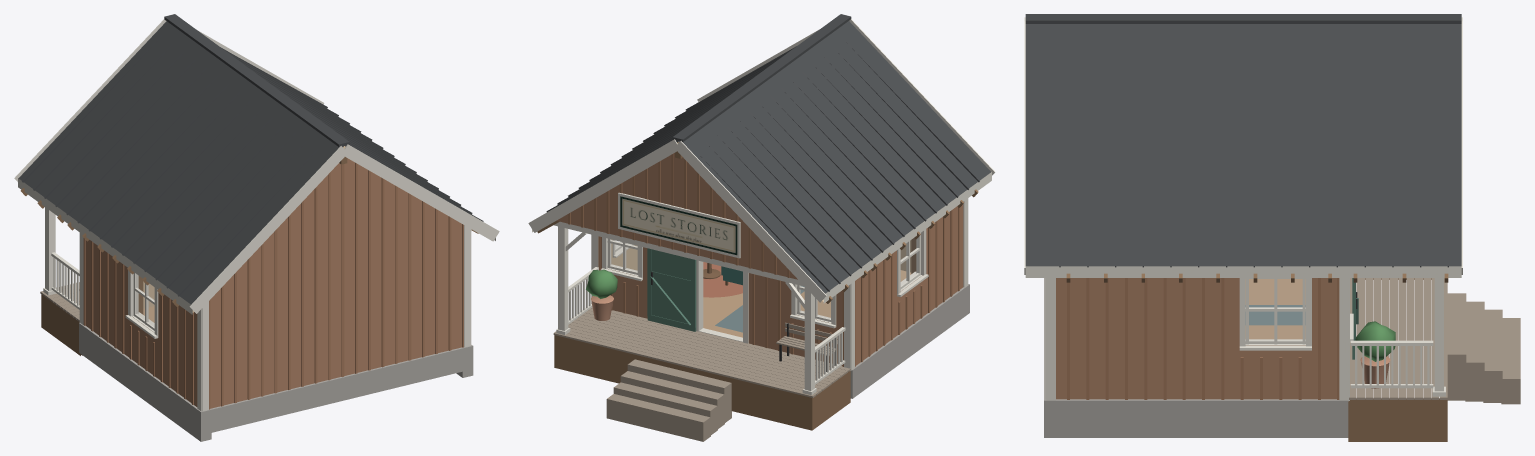
File: Stories.glb
3 renders of one model, left to right at view 1: azimuth 30°, elevation 25°; view 2: azimuth 150°, elevation 25°; view 3: azimuth 270°, elevation 25°, orthographic. The views are drawn at different scales.
Parts seen in each view (by area): view 1: M_st_roof, M_st_cedar, M_st_batten, M_st_trim, M_st_stone, M_st_beam, M_st_deck; view 2: M_st_roof, M_st_trim, M_st_cedar, M_st_deck, M_st_beam, M_st_batten, M_st_stone, M_st_sign, M_st_green, M_st_floor, M_st_rug, M_st_leaf (+2 smaller); view 3: M_st_roof, M_st_cedar, M_st_deck, M_st_trim, M_st_stone, M_st_batten, M_st_beam, M_st_floor, M_st_runner, M_st_leaf, M_st_pot.
Part boxes in pixels (x1,y1,x2,y2): M_st_roof: (18,14,483,304); M_st_cedar: (85,158,461,408); M_st_batten: (83,162,463,409); M_st_trim: (14,19,499,411); M_st_stone: (79,322,473,441); M_st_beam: (20,157,478,355); M_st_deck: (40,282,79,321); M_st_roof: (546,14,990,293); M_st_trim: (528,19,995,395); M_st_cedar: (556,153,963,366); M_st_deck: (553,307,850,441); M_st_beam: (537,151,978,430); M_st_batten: (568,153,959,366); M_st_stone: (850,284,969,398); M_st_sign: (620,196,737,255); M_st_green: (647,248,696,331); M_st_floor: (703,270,911,337); M_st_rug: (703,262,742,297); M_st_leaf: (586,269,617,298); M_st_roof: (1025,14,1461,267); M_st_cedar: (1056,278,1336,399); M_st_deck: (1349,278,1520,404); M_st_trim: (1024,17,1462,401); M_st_stone: (1044,278,1348,437); M_st_batten: (1067,278,1339,399); M_st_beam: (1066,273,1448,441); M_st_floor: (1245,279,1305,339); M_st_runner: (1245,305,1305,325); M_st_leaf: (1355,321,1395,361); M_st_pot: (1360,356,1390,388).
Size of the model in its own units: 7.4 by 6.53 by 8.23.
Materials: 34 (5 with a texture image).
